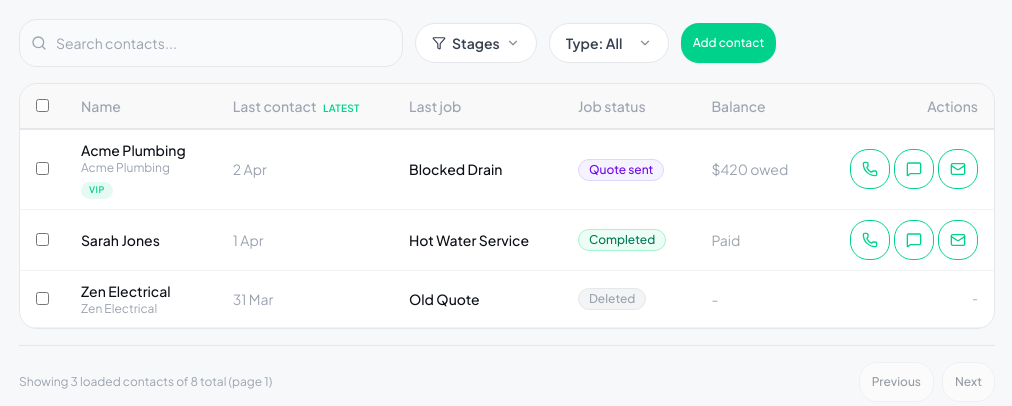
Test: ContactsClient › shows the visible filtered count in pagination copy
This screenshot has width=1012, height=406.
Check: the text "Showing 3 loaded contacts of 8 total (page 1)" is shown, box [19,374,272,390]
Type "drain" into the field with placeholder "Search contacts...".
click(211, 43); type("drain")  # box [19,19,403,67]
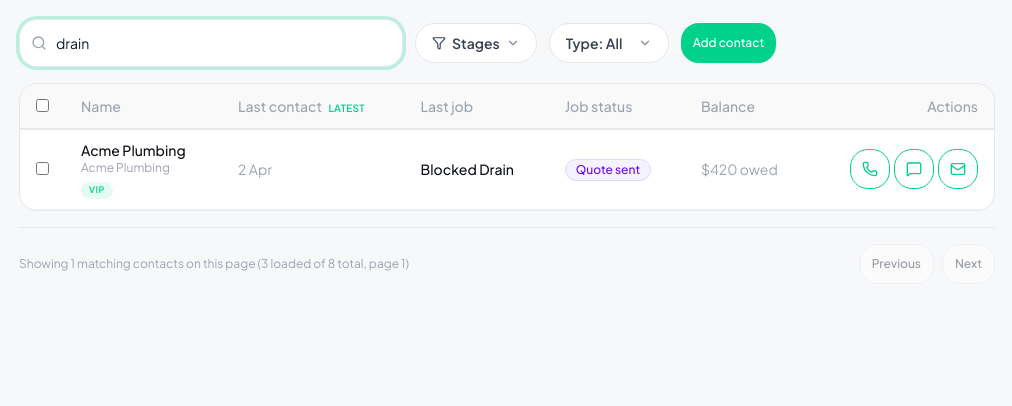
Check: the text "Showing 1 matching contacts on this page (3 loaded of 8 total, page 1)" is shown, box [19,256,409,272]
